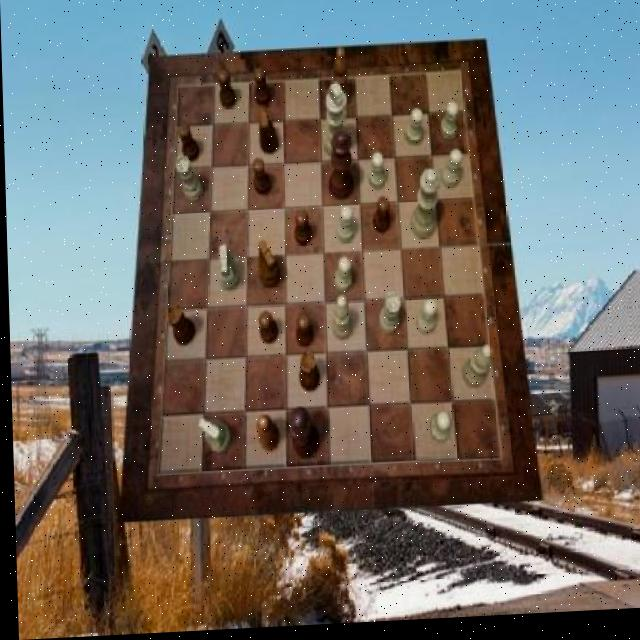bishop: (330, 50, 349, 111), (253, 415, 277, 454)
black-bishop: (284, 409, 316, 464)
black-king: (256, 243, 279, 291), (257, 109, 277, 159)
black-knight: (177, 124, 198, 163), (252, 69, 270, 110), (251, 160, 270, 198), (217, 71, 235, 111), (255, 314, 276, 347), (371, 200, 389, 237), (295, 315, 313, 351), (293, 214, 311, 249)
black-pawn: (325, 135, 351, 205)
black-queen: (165, 306, 193, 349), (296, 355, 317, 396)
black-rook: (460, 350, 491, 393), (329, 298, 350, 345)
white-bishop: (321, 85, 347, 162)
white-king: (195, 419, 228, 456), (216, 246, 239, 292)
white-knight: (439, 155, 460, 195), (437, 108, 457, 147), (413, 304, 434, 340), (334, 209, 352, 247), (367, 155, 385, 193), (427, 416, 448, 448), (404, 112, 422, 149), (332, 260, 350, 295)
white-pawn: (408, 173, 440, 244)
white-queen: (174, 158, 202, 205), (375, 298, 399, 340)
